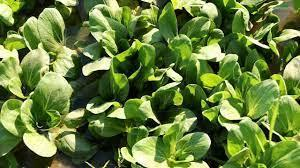Healthy-Pechay: (2, 1, 297, 167)
